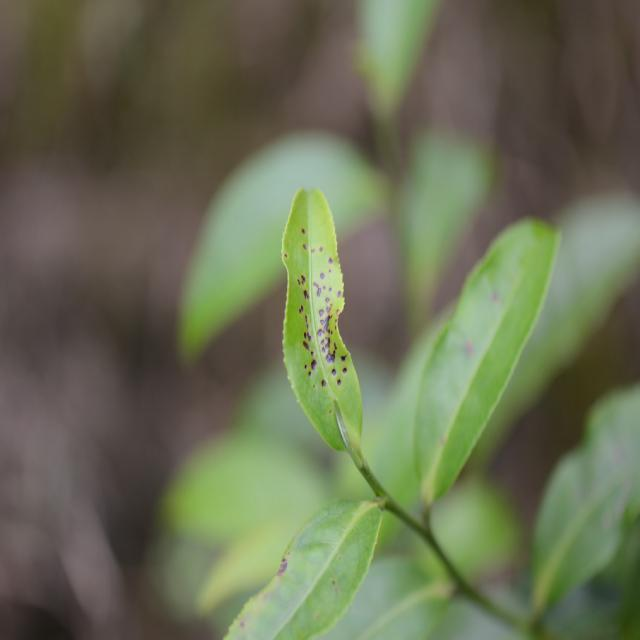Tea red scab: (290, 221, 349, 378)
